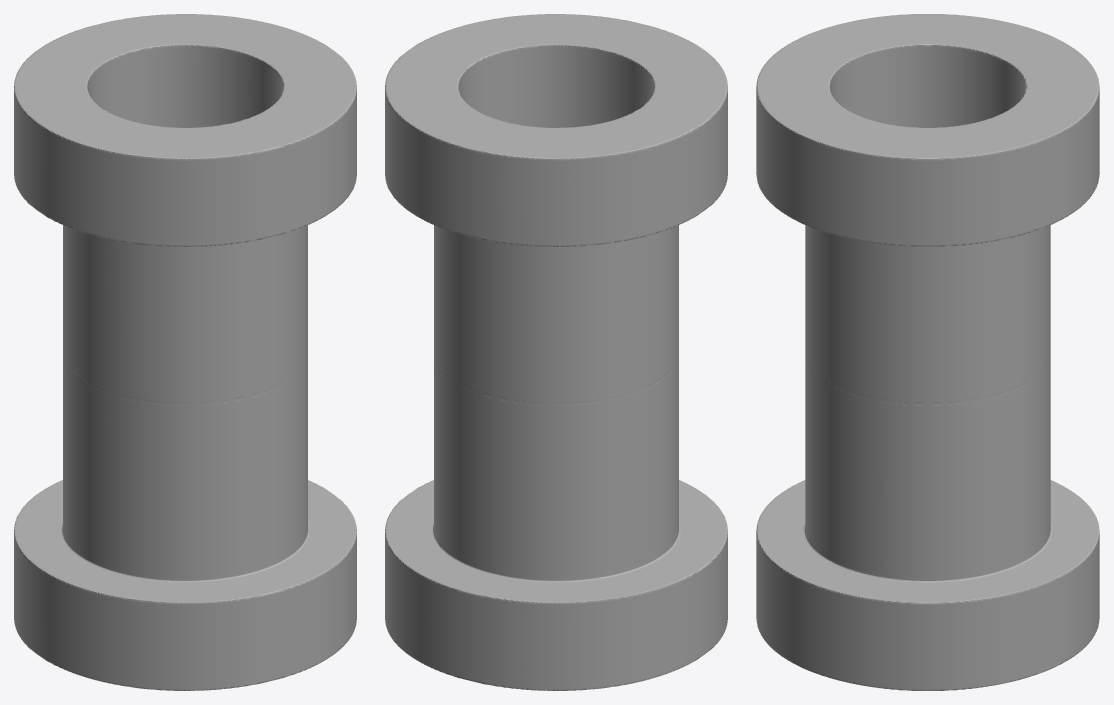
Rendered from Pipe3.fbx.
3 renders of one model, left to right at view 1: azimuth 30°, elevation 25°; view 2: azimuth 150°, elevation 25°; view 3: azimuth 270°, elevation 25°, orthographic.
Parts seen in each view (by area): view 1: Pipe3; view 2: Pipe3; view 3: Pipe3.
Part boxes in pixels (x1,y1,x2,y2): Pipe3: (14,14,356,690); Pipe3: (385,14,727,690); Pipe3: (756,14,1099,690).
Size of the model in its own units: 199 by 341 by 199.
